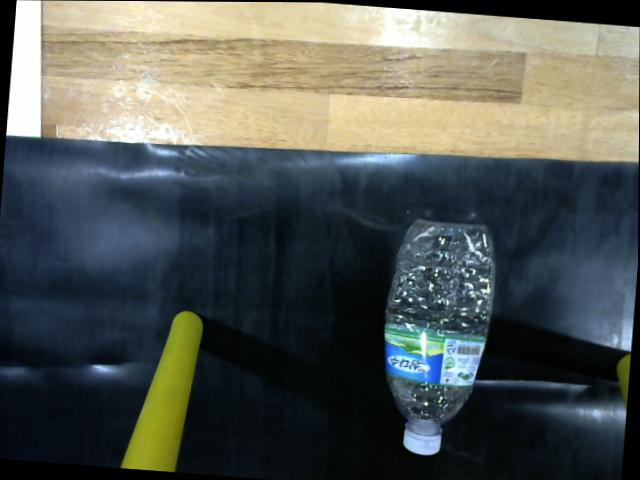bottle: (367, 199, 504, 468)
